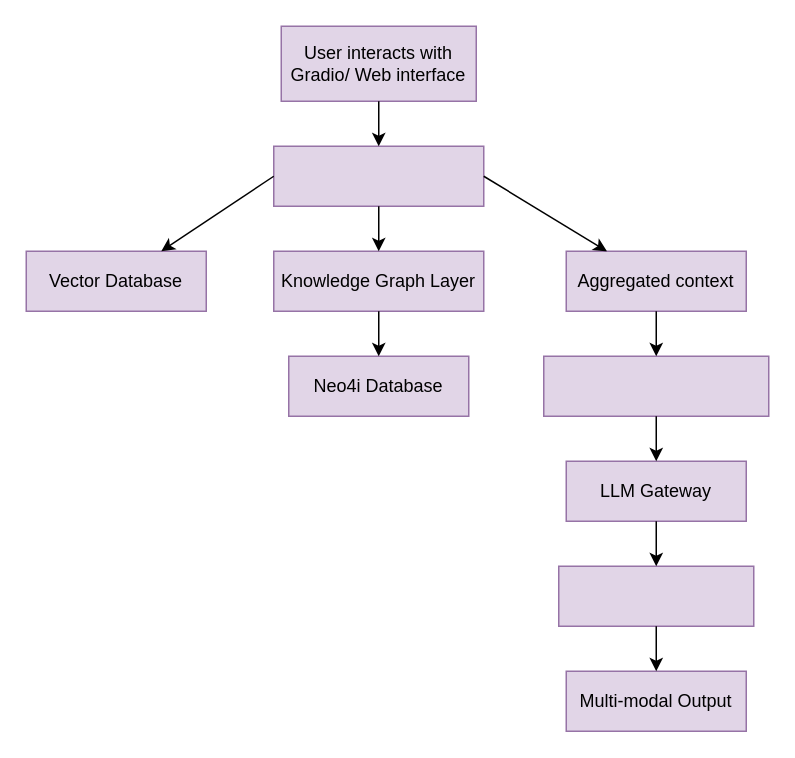
Image size: 795x758. Some labels were removed from this diagram. Each missing label, with the box of its shape:
Document RAG Engine: (272, 145, 484, 206)
LangChain Orchestration: (542, 355, 769, 416)
Response Generation: (557, 565, 754, 626)
